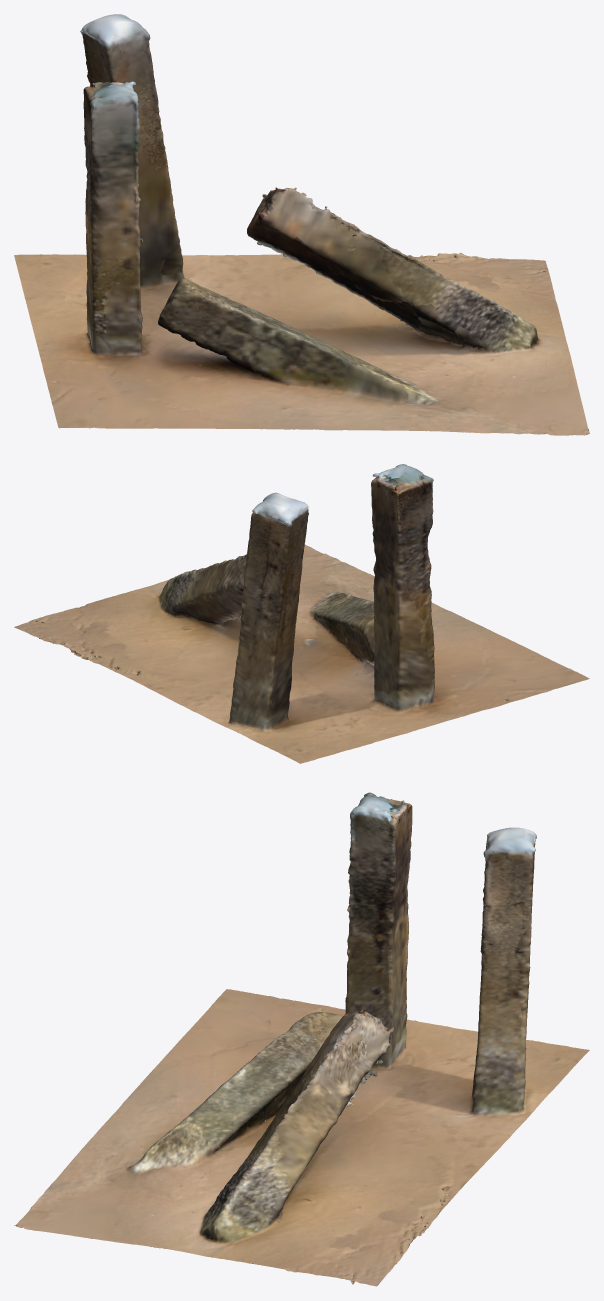
The model's file is jetty_ruins_polycam_ipad_pro_lidar.glb.
3 renders of one model, top to bottom at view 1: azimuth 30°, elevation 25°; view 2: azimuth 150°, elevation 25°; view 3: azimuth 270°, elevation 25°, orthographic. The views are drawn at different scales.
Visible parts, largest first — view 1: Object_4, Object_5; view 2: Object_4, Object_5; view 3: Object_4, Object_5.
Part boxes in pixels (box(x1,y1,x2,y2)): Object_4: box(14, 14, 589, 435); Object_5: box(83, 23, 470, 424); Object_4: box(14, 464, 589, 763); Object_5: box(63, 468, 493, 732); Object_4: box(14, 792, 589, 1286); Object_5: box(151, 796, 526, 1223).
Size of the model in its own units: 5.29 by 2.59 by 4.72.
Materials: 1 (1 with a texture image).
